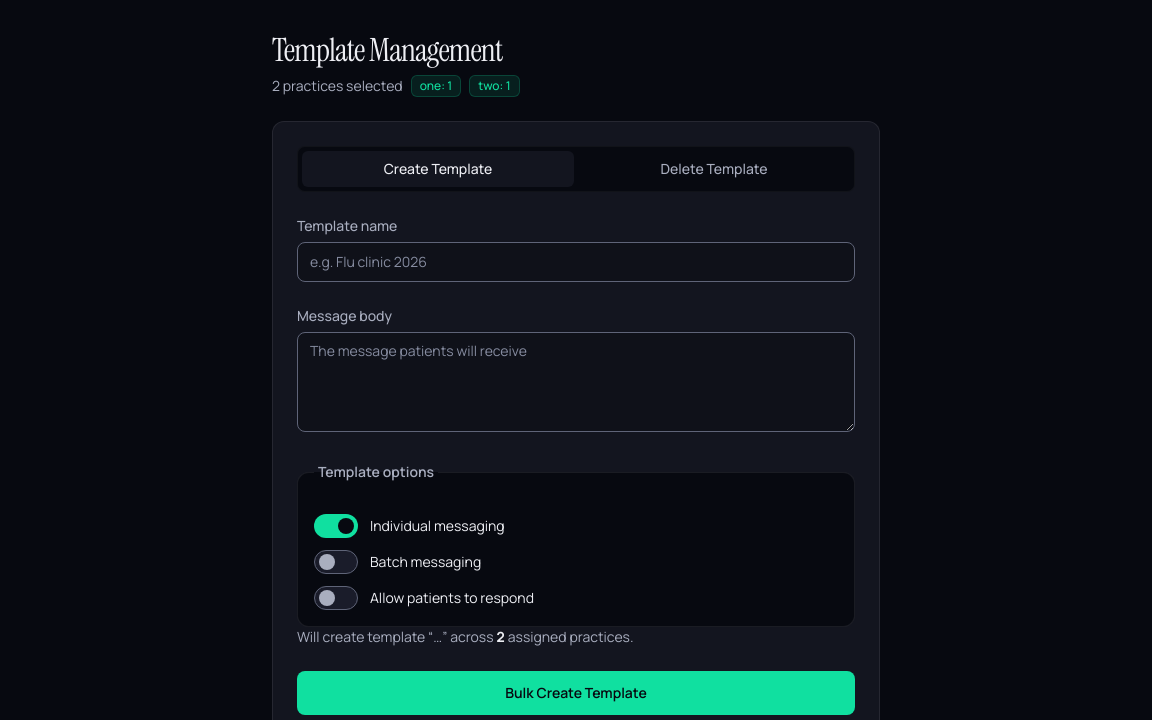
Test case: Templates page: bulk actions confirm (docs/ui-rules.md §5) › cancel closes the dialog without starting anything
Check: the text "one: 1" is shown, box [411,75,461,97]
In the field labelled "Template name": [576, 262] box [297,242,855,282], type "Flu"
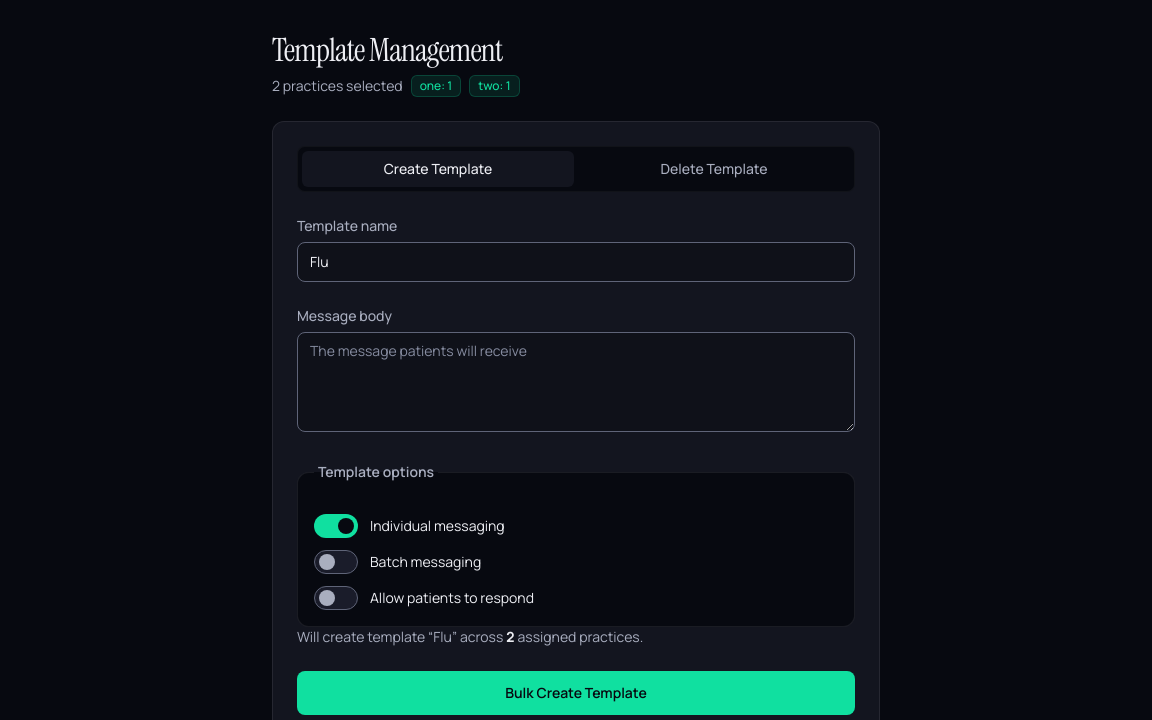
In the text box labelled "Message body": [576, 382] box [297,332,855,432], type "Hi"
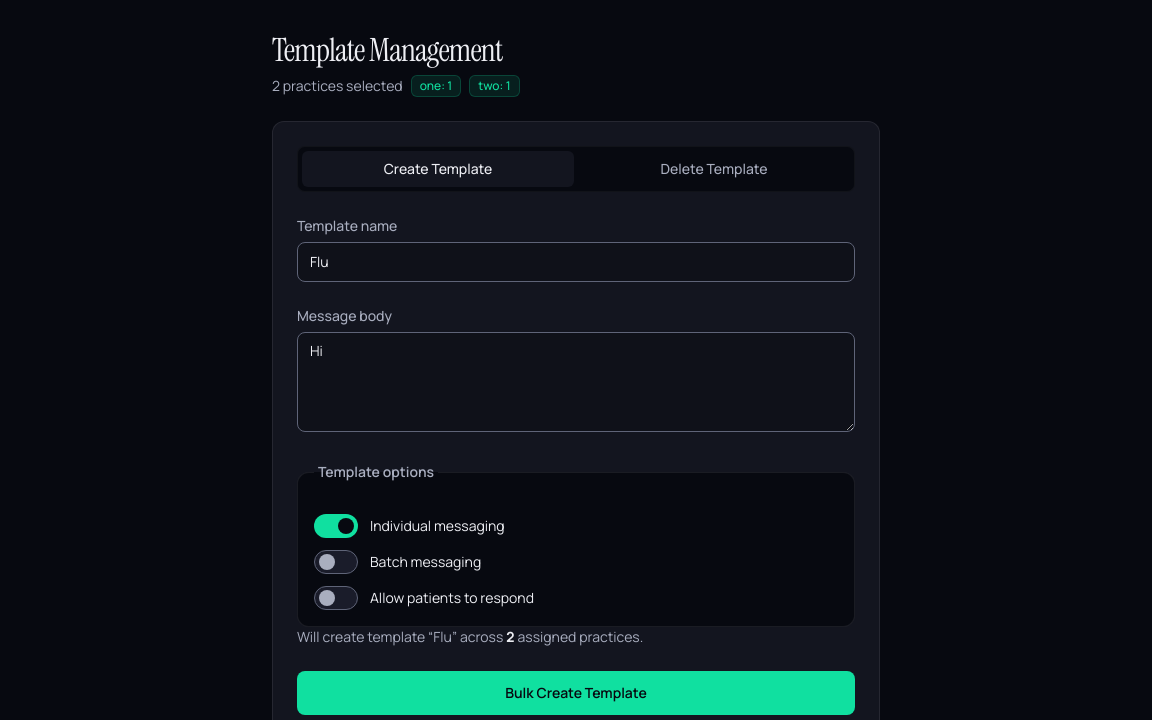
Click the button "Bulk Create Template": [576, 693] box [297,671,855,715]
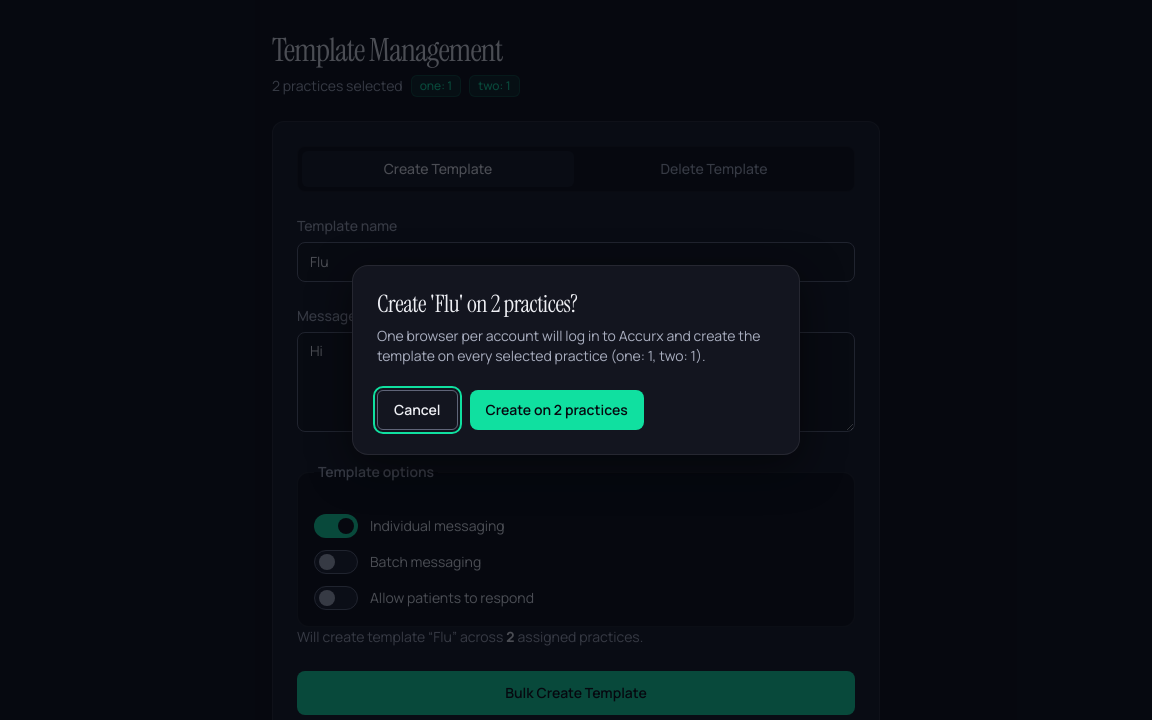
Click the button "Cancel": [417, 410] box [377,390,458,430]
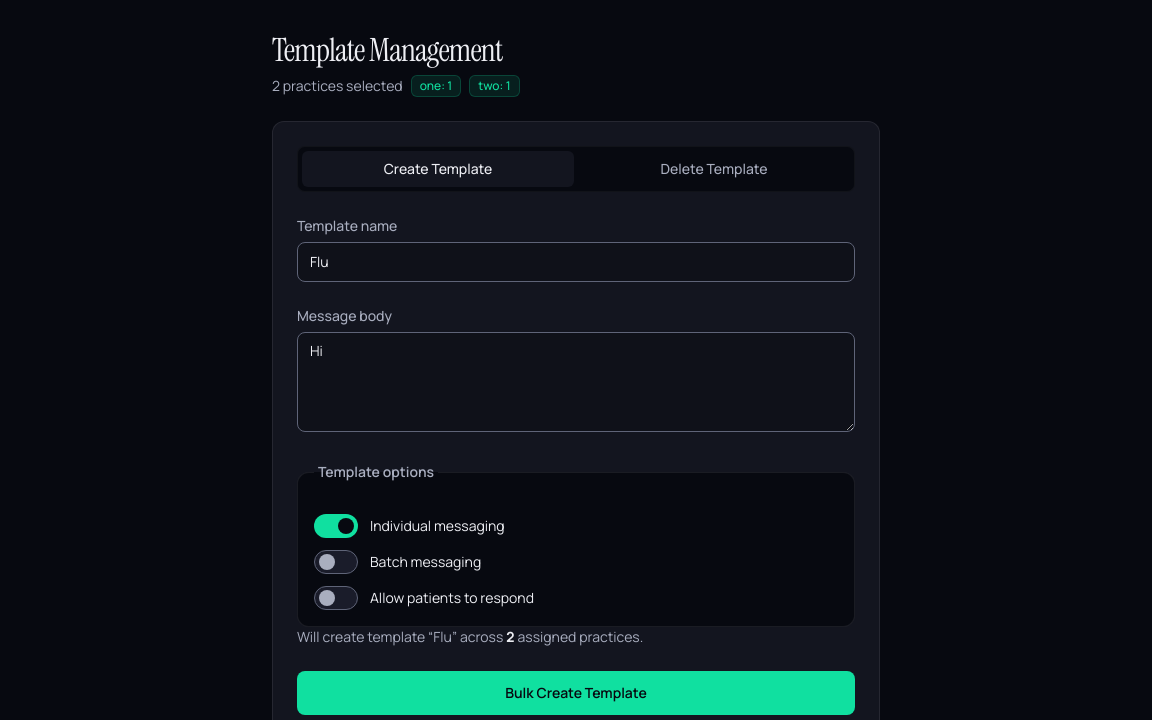
Check: the dialog is gone
